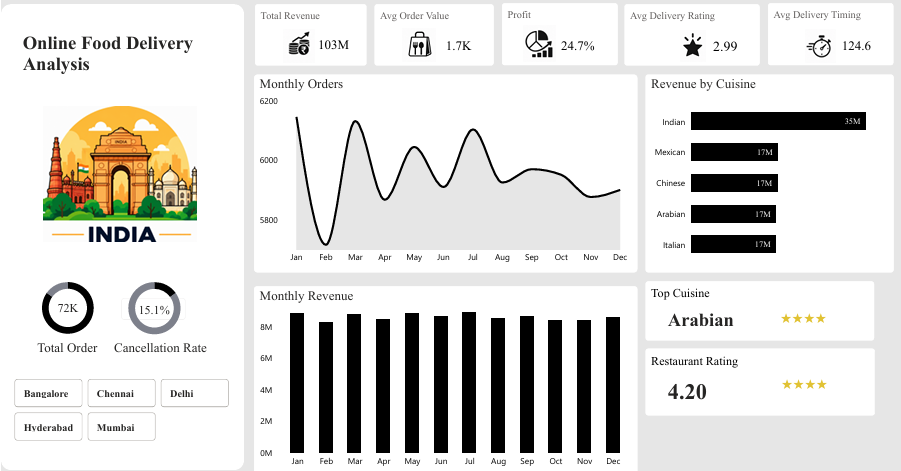

Layout of this report page (visuals, bound fields, positions):
{"tool":"powerbi","page":{"name":"Page 1","canvas":[1280,720],"ordinal":0},"visuals":[{"type":"shape","box":[0,43.2,348.5,668.2],"z":0},{"type":"cardVisual","fields":{"Data":["online_food_delivery.Total Orders"]},"box":[50.4,450,91.7,55.7],"z":1000,"group":"g4"},{"type":"textbox","box":[36,520.5,117.9,37.6],"z":1000},{"type":"donutChart","fields":{"Category":["online_food_delivery.Order_Status"],"Y":["online_food_delivery.Total Orders"]},"box":[36,427.2,119.5,102.2],"z":2000,"group":"g4"},{"type":"textbox","box":[157.1,520.5,163.7,40.9],"z":2000},{"type":"cardVisual","fields":{"Data":["online_food_delivery.Total Revenue"]},"box":[364.3,43.2,159.8,87.8],"z":3000,"group":"g5"},{"type":"advancedSlicerVisual","fields":{"Values":["online_food_delivery.City"]},"box":[14.4,576,319.7,99.4],"z":3000},{"type":"cardVisual","fields":{"Data":["online_food_delivery.Avg Order Value"]},"box":[535.7,43.2,171.4,87.8],"z":4000,"group":"g6"},{"type":"lineChart","title":"Monthly Orders","fields":{"Y":["online_food_delivery.Total Orders"],"Category":["online_food_delivery.Month"]},"box":[362.9,144,550.1,283.7],"z":4000},{"type":"cardVisual","fields":{"Data":["online_food_delivery.Cancellation Rate"]},"box":[155.5,446.8,126,65.5],"z":4000,"group":"g3"},{"type":"cardVisual","fields":{"Data":["online_food_delivery.Avg Delivery Time"]},"box":[1100.2,41.8,180,89.3],"z":5000,"group":"g9"},{"type":"donutChart","fields":{"Y":["online_food_delivery.Cancellation Rate","online_food_delivery.Not Cancelled Rate"]},"box":[156.6,427.2,126,103.1],"z":5000,"group":"g3"},{"type":"clusteredColumnChart","title":"Monthly Revenue","fields":{"Y":["online_food_delivery.Total Revenue"],"Category":["online_food_delivery.Month"]},"box":[362.9,439.2,550.1,272.2],"z":5000},{"type":"cardVisual","fields":{"Data":["online_food_delivery.Avg Delivery Rating"]},"box":[894.2,43.2,194.4,87.8],"z":6000,"group":"g8"},{"type":"clusteredBarChart","title":" Revenue by Cuisine","fields":{"Y":["online_food_delivery.Total Revenue"],"Category":["online_food_delivery.Cuisine_Type"]},"box":[924.5,144,355.7,283.7],"z":6000},{"type":"cardVisual","fields":{"Data":["online_food_delivery.Profit Margin %"]},"box":[718.6,41.8,165.6,89.3],"z":7000,"group":"g7"},{"type":"group","id":"g1","title":"Group 1","box":[924.5,537.1,328.8,96.2],"z":7000},{"type":"group","id":"g2","title":"Group 2","box":[924.5,440.6,328.3,85],"z":8000},{"type":"group","id":"g3","title":"Group 3","box":[155.5,427.2,127.7,103.1],"z":9000},{"type":"group","id":"g4","title":"Group 4","box":[36,427.2,119.5,103.1],"z":10000},{"type":"tableEx","fields":{"Values":["online_food_delivery.City Icon"]},"box":[50.4,155.5,267.8,272.2],"z":11000},{"type":"group","id":"g5","title":"Group 5","box":[364.3,43.2,159.8,87.8],"z":12000},{"type":"group","id":"g6","title":"Group 6","box":[535.7,43.2,171.4,87.8],"z":13000},{"type":"group","id":"g7","title":"Group 7","box":[718.6,41.8,165.6,89.3],"z":14000},{"type":"group","id":"g8","title":"Group 8","box":[894.2,43.2,194.4,87.8],"z":15000},{"type":"group","id":"g9","title":"Group 9","box":[1100.2,41.8,180,89.3],"z":16000},{"type":"textbox","box":[25.9,77.8,296.6,93.6],"z":16001},{"type":"image","box":[392.6,78.9,69.1,48.3],"z":17000,"group":"g5"},{"type":"cardVisual","fields":{"Data":["online_food_delivery.Avg Restaurant Rating"]},"box":[924.5,537.1,328.8,96.2],"z":17000,"group":"g1"},{"type":"image","box":[566.4,77.5,67.7,47.5],"z":17001,"group":"g6"},{"type":"image","box":[743.7,73.8,57.6,51.8],"z":17002,"group":"g7"},{"type":"image","box":[957.2,80.4,70.6,44.6],"z":17003,"group":"g8"},{"type":"image","box":[1147.7,79.2,56.2,47.5],"z":17004,"group":"g9"},{"type":"cardVisual","fields":{"Data":["online_food_delivery.Top Cuisine"]},"box":[924.5,440.6,328.3,85],"z":18000,"group":"g2"},{"type":"cardVisual","fields":{"Data":["online_food_delivery.Rating Stars"]},"box":[1089.4,557.1,149.8,56.2],"z":18000,"group":"g1"},{"type":"cardVisual","fields":{"Data":["online_food_delivery.Top Cuisine Stars"]},"box":[1088.7,465.1,152.6,53.3],"z":19000,"group":"g2"}]}

Visuals, with their boxes on the page's 1280x720 design canvas (x1, y1, x2, y2). These are canvas units, not pixel positions in the 901x471 screenshot, which may show the page scaled, cropped or inside an application window:
shape: bbox=[0, 43, 348, 711]
cardVisual - online_food_delivery.Total Orders: bbox=[50, 450, 142, 506]
textbox: bbox=[36, 520, 154, 558]
donutChart - online_food_delivery.Order_Status x online_food_delivery.Total Orders: bbox=[36, 427, 156, 529]
textbox: bbox=[157, 520, 321, 561]
cardVisual - online_food_delivery.Total Revenue: bbox=[364, 43, 524, 131]
advancedSlicerVisual - online_food_delivery.City: bbox=[14, 576, 334, 675]
cardVisual - online_food_delivery.Avg Order Value: bbox=[536, 43, 707, 131]
"Monthly Orders" lineChart: bbox=[363, 144, 913, 428]
cardVisual - online_food_delivery.Cancellation Rate: bbox=[156, 447, 282, 512]
cardVisual - online_food_delivery.Avg Delivery Time: bbox=[1100, 42, 1280, 131]
donutChart - online_food_delivery.Cancellation Rate x online_food_delivery.Not Cancelled Rate: bbox=[157, 427, 283, 530]
"Monthly Revenue" clusteredColumnChart: bbox=[363, 439, 913, 711]
cardVisual - online_food_delivery.Avg Delivery Rating: bbox=[894, 43, 1089, 131]
" Revenue by Cuisine" clusteredBarChart: bbox=[924, 144, 1280, 428]
cardVisual - online_food_delivery.Profit Margin %: bbox=[719, 42, 884, 131]
"Group 1" group: bbox=[924, 537, 1253, 633]
"Group 2" group: bbox=[924, 441, 1253, 526]
"Group 3" group: bbox=[156, 427, 283, 530]
"Group 4" group: bbox=[36, 427, 156, 530]
tableEx - online_food_delivery.City Icon: bbox=[50, 156, 318, 428]
"Group 5" group: bbox=[364, 43, 524, 131]
"Group 6" group: bbox=[536, 43, 707, 131]
"Group 7" group: bbox=[719, 42, 884, 131]
"Group 8" group: bbox=[894, 43, 1089, 131]
"Group 9" group: bbox=[1100, 42, 1280, 131]
textbox: bbox=[26, 78, 322, 171]
image: bbox=[393, 79, 462, 127]
cardVisual - online_food_delivery.Avg Restaurant Rating: bbox=[924, 537, 1253, 633]
image: bbox=[566, 78, 634, 125]
image: bbox=[744, 74, 801, 126]
image: bbox=[957, 80, 1028, 125]
image: bbox=[1148, 79, 1204, 127]
cardVisual - online_food_delivery.Top Cuisine: bbox=[924, 441, 1253, 526]
cardVisual - online_food_delivery.Rating Stars: bbox=[1089, 557, 1239, 613]
cardVisual - online_food_delivery.Top Cuisine Stars: bbox=[1089, 465, 1241, 518]
